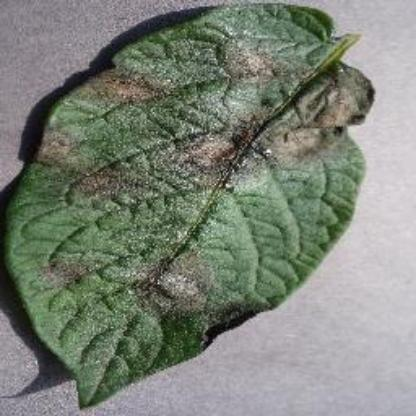Late-Blight: (2, 6, 378, 378)
